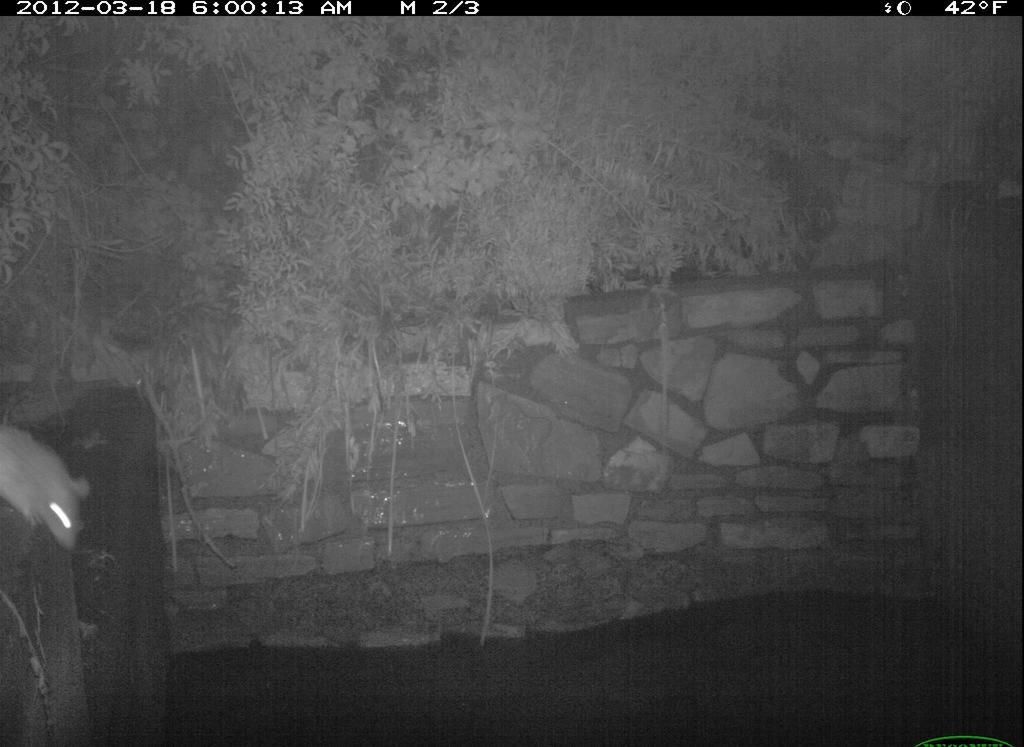rodent: (1, 404, 102, 563)
